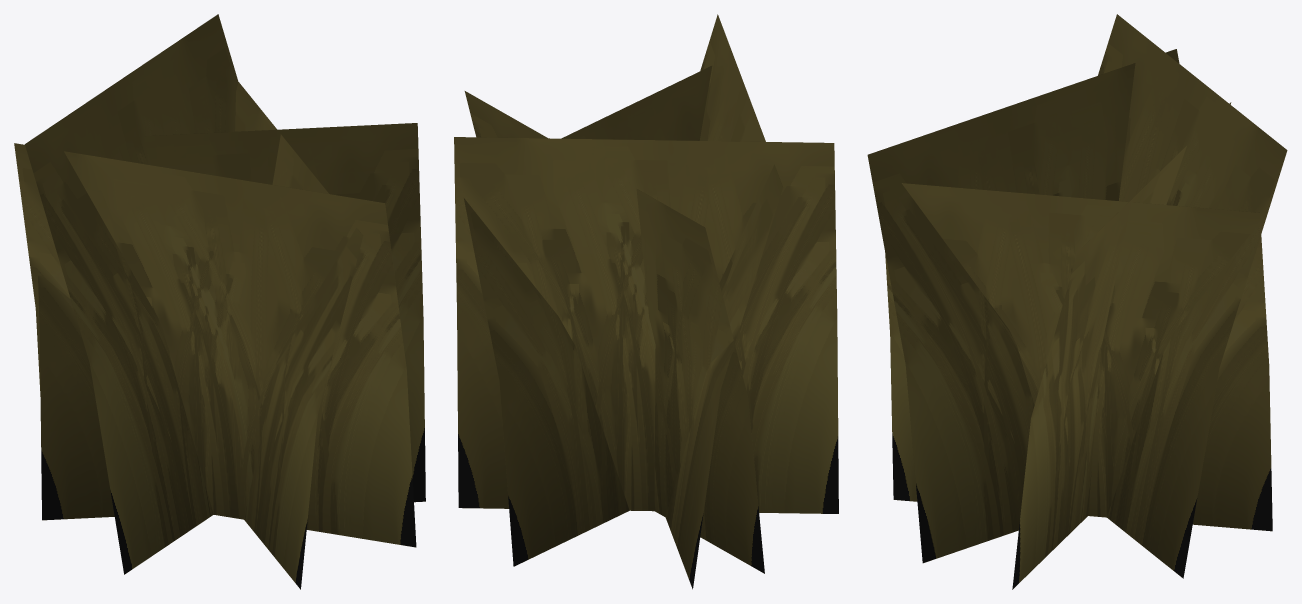
The model's file is beach_grass_1_burnt3.glb.
3 views of the same model, side by side, from view 1: azimuth 30°, elevation 25°; view 2: azimuth 150°, elevation 25°; view 3: azimuth 270°, elevation 25° (orthographic). The views are drawn at different scales.
Parts seen in each view (by area): view 1: beach_grass_1_burnt3; view 2: beach_grass_1_burnt3; view 3: beach_grass_1_burnt3.
Boxes of the visible parts, <box> form: beach_grass_1_burnt3: <box>14,14,425,589</box>; beach_grass_1_burnt3: <box>454,14,838,589</box>; beach_grass_1_burnt3: <box>867,14,1287,589</box>.
Size of the model in its own units: 0.8361 by 0.8656 by 0.8128.
1 material, 1 textured.
